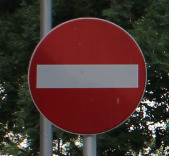no_entry: (28, 17, 147, 135)
